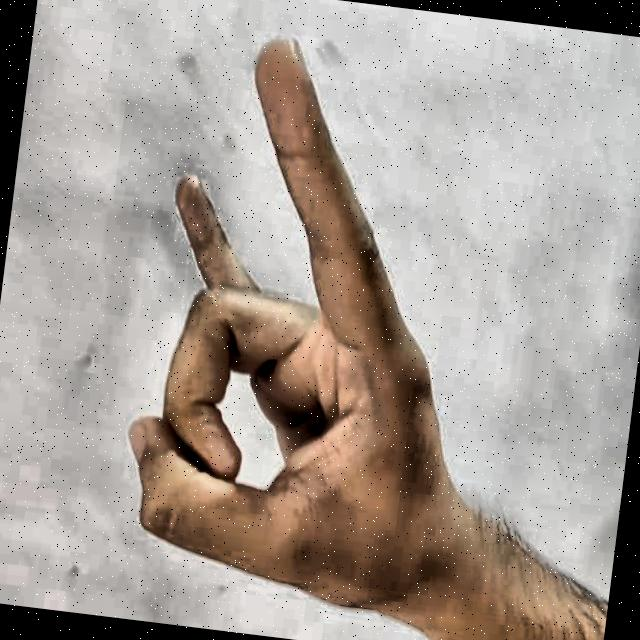Cha: (57, 3, 552, 640)
